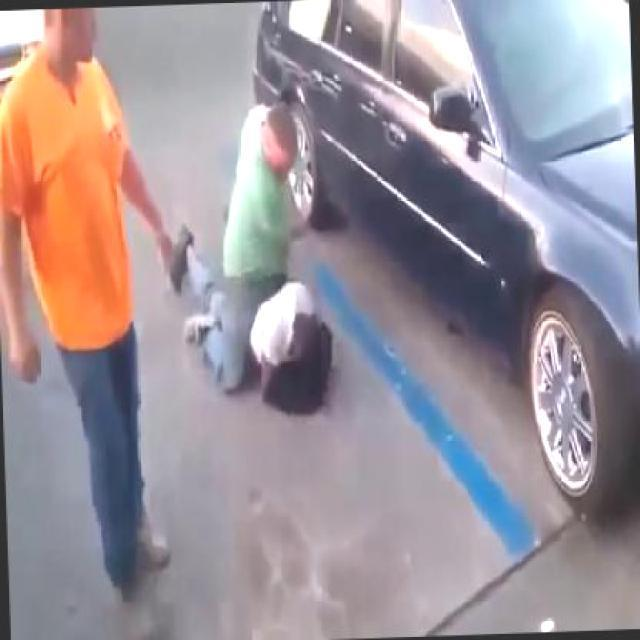fight: (170, 100, 335, 420)
non-fight: (7, 2, 168, 610)
